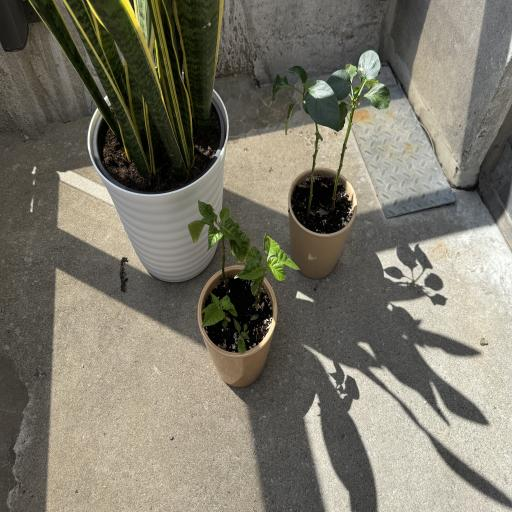Plant Pot: (84, 85, 230, 280), (197, 268, 280, 388), (287, 165, 357, 274)
